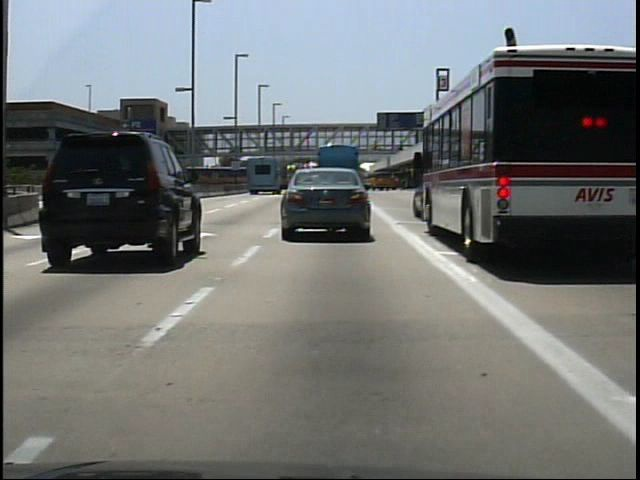person: (395, 135, 409, 157), (370, 137, 383, 157)
